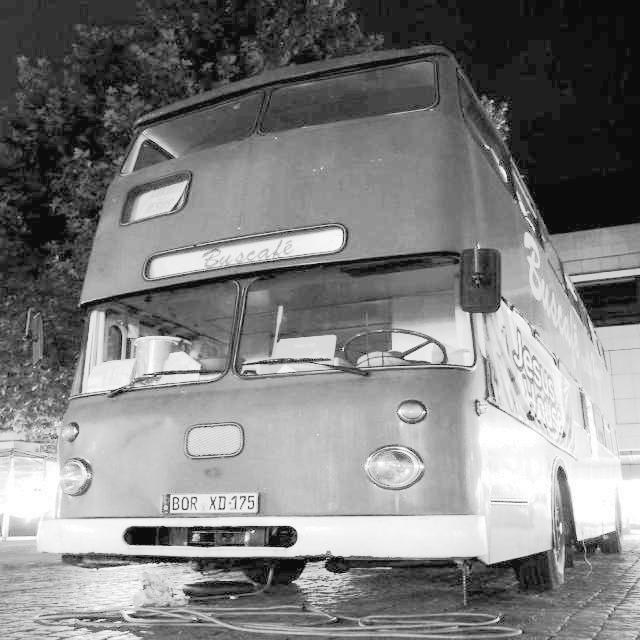Bus: (30, 25, 624, 602)
